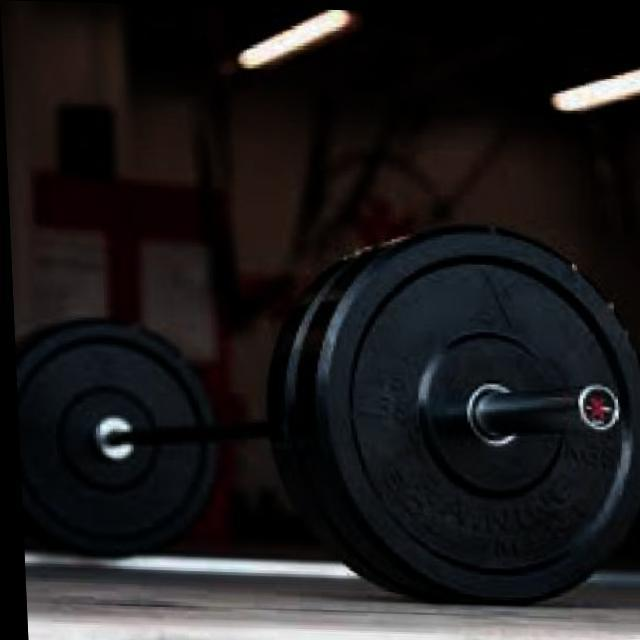barbell: (296, 215, 640, 616)
